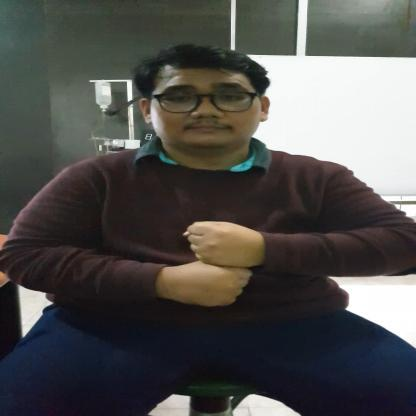G: (160, 219, 267, 308)
